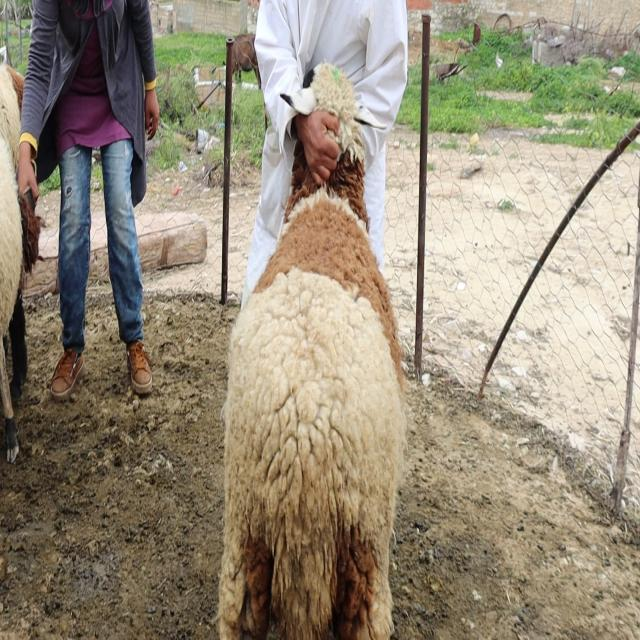Score_5: (219, 63, 406, 639)
